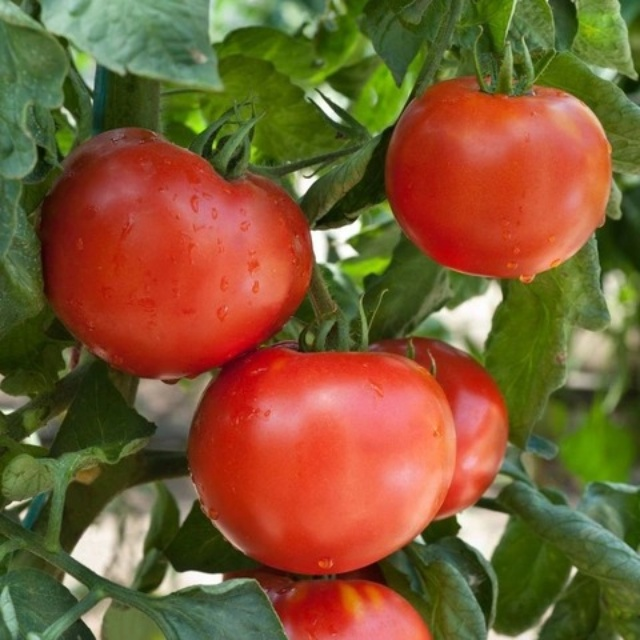ca_chua: (42, 127, 315, 380), (189, 344, 455, 575), (386, 76, 613, 277), (380, 338, 509, 523), (250, 575, 430, 640)
